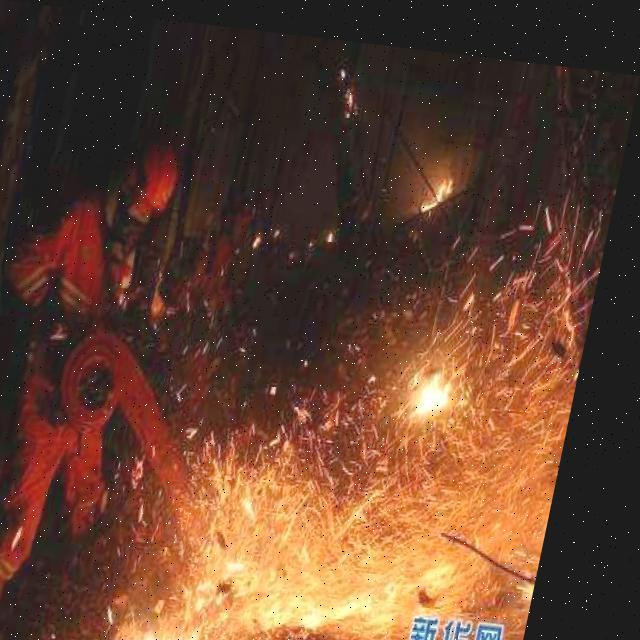Fire: (137, 324, 523, 639), (419, 160, 464, 208)
